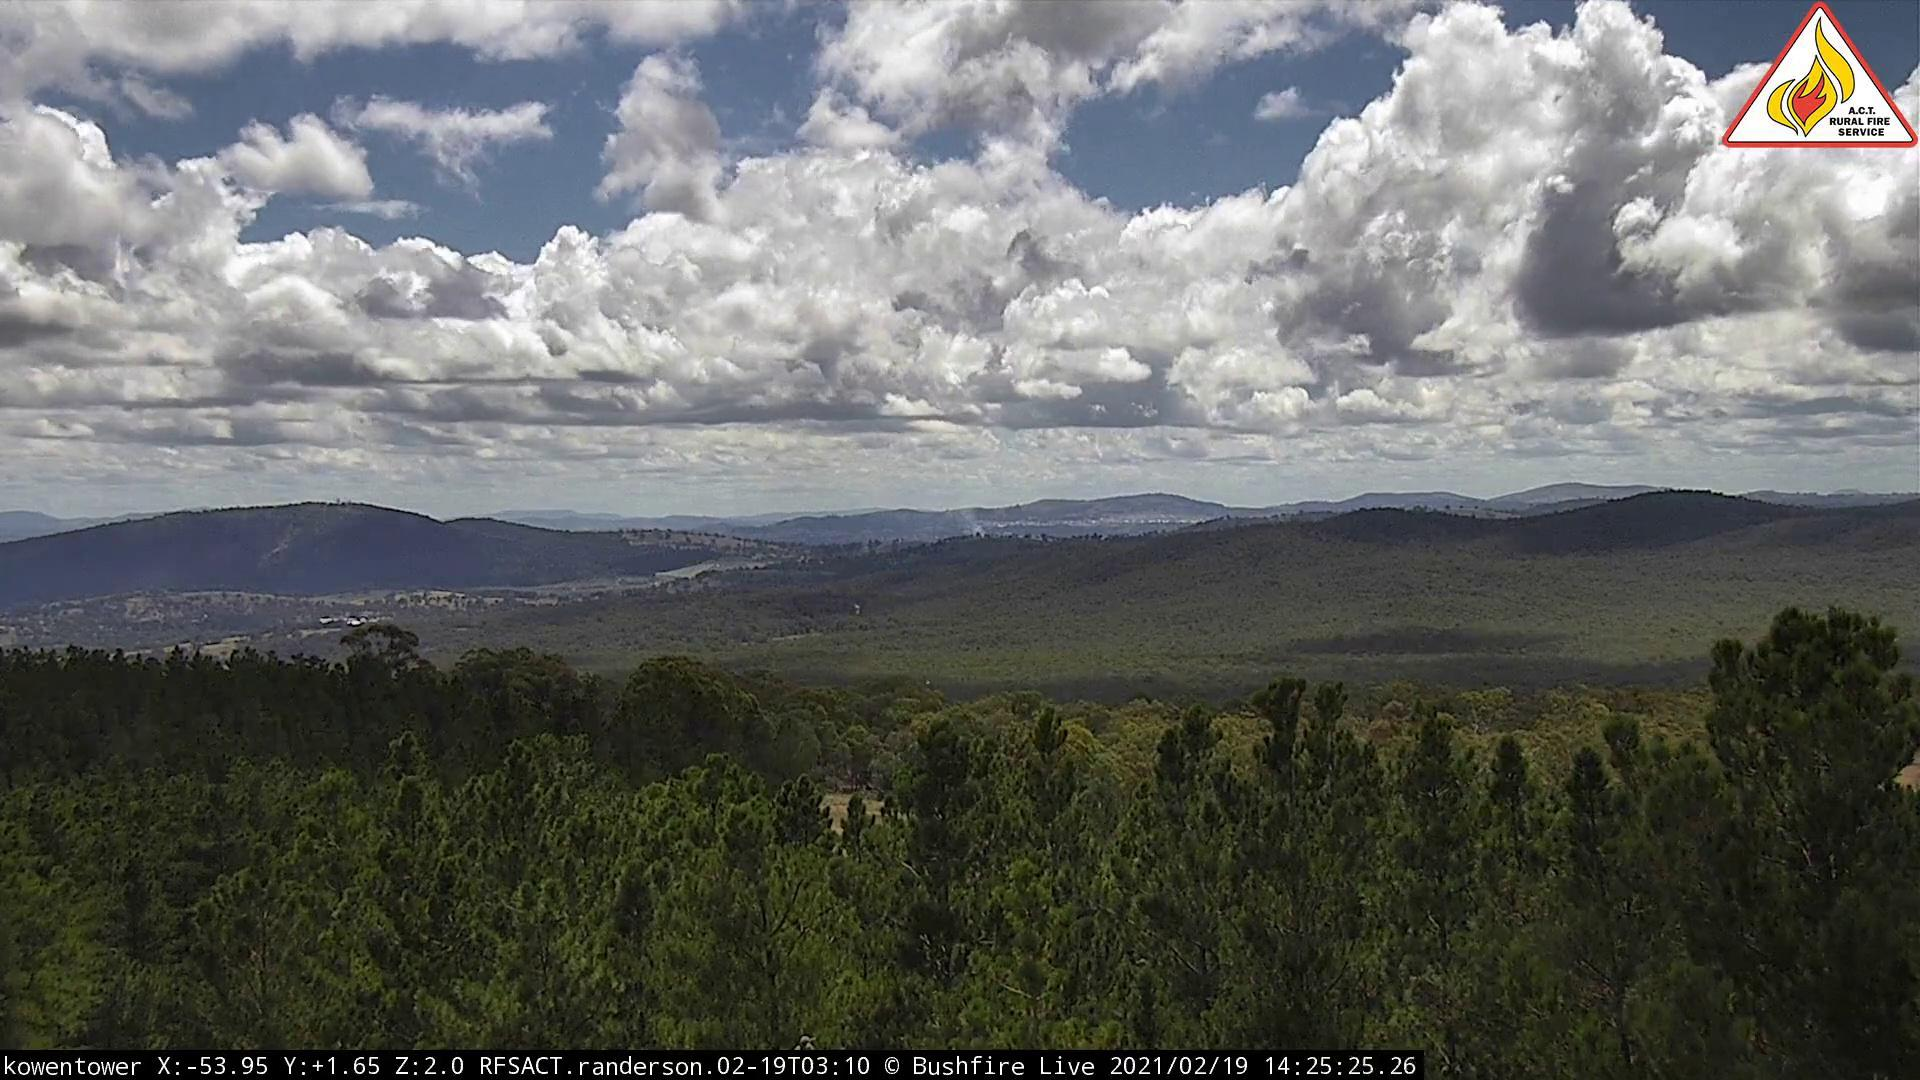instance_salient_object: (942, 500, 996, 550)
